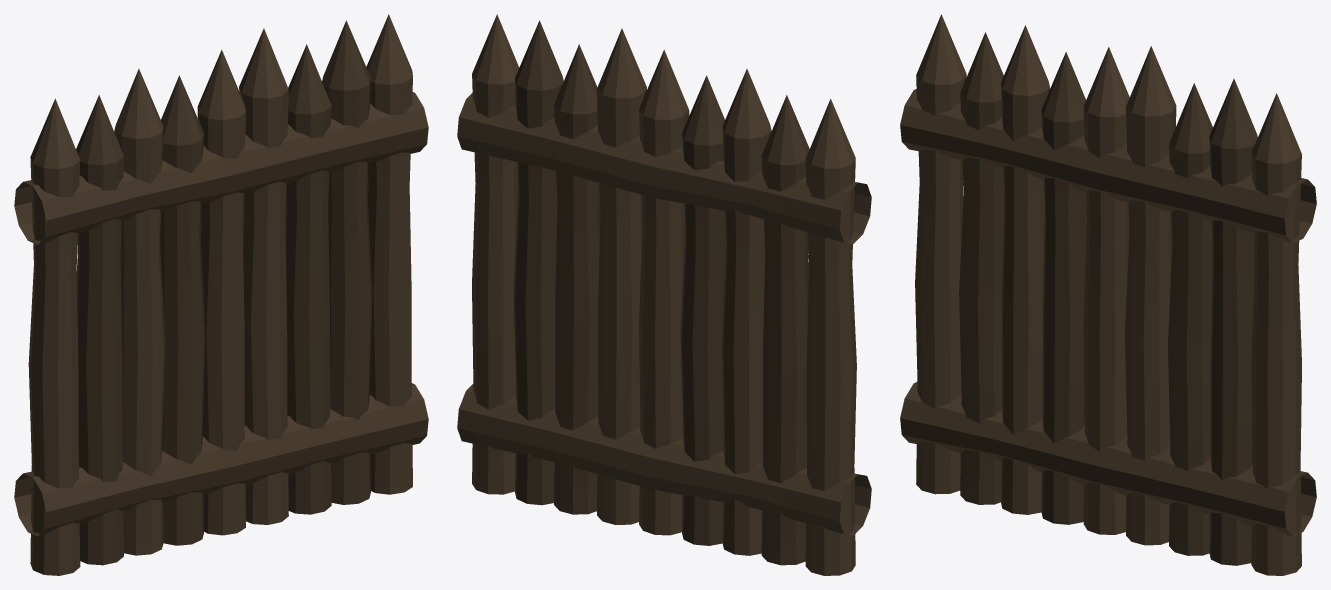
Rendered from Wall_V3.fbx.
3 views of the same model, side by side, from view 1: azimuth 30°, elevation 25°; view 2: azimuth 150°, elevation 25°; view 3: azimuth 330°, elevation 25° (orthographic).
Visible parts, largest first — view 1: pCylinder19, pCylinder25, pCylinder26, pCylinder17, pCylinder15, pCylinder18, pCylinder16, pCylinder20, pCylinder24, pCylinder21, pCylinder14; view 2: pCylinder19, pCylinder25, pCylinder26, pCylinder18, pCylinder17, pCylinder15, pCylinder16, pCylinder21, pCylinder20, pCylinder24, pCylinder14; view 3: pCylinder21, pCylinder25, pCylinder26, pCylinder17, pCylinder19, pCylinder15, pCylinder16, pCylinder24, pCylinder14, pCylinder18, pCylinder20.
Part boxes in pixels (x1,y1,x2,y2): pCylinder19: (28, 98, 80, 575); pCylinder25: (14, 92, 428, 244); pCylinder26: (14, 383, 428, 536); pCylinder17: (239, 28, 288, 524); pCylinder15: (114, 69, 165, 555); pCylinder18: (76, 95, 123, 565); pCylinder16: (197, 49, 245, 535); pCylinder20: (285, 44, 331, 514); pCylinder24: (322, 20, 372, 504); pCylinder21: (366, 14, 412, 494); pCylinder14: (160, 75, 205, 545); pCylinder19: (805, 99, 856, 575); pCylinder25: (457, 93, 871, 244); pCylinder26: (457, 384, 871, 535); pCylinder18: (761, 95, 809, 565); pCylinder17: (597, 28, 646, 524); pCylinder15: (722, 69, 771, 555); pCylinder16: (639, 49, 689, 535); pCylinder21: (472, 14, 519, 494); pCylinder20: (554, 44, 600, 514); pCylinder24: (513, 20, 563, 505); pCylinder14: (680, 75, 725, 545); pCylinder21: (1251, 93, 1301, 575); pCylinder25: (900, 89, 1316, 242); pCylinder26: (900, 382, 1316, 536); pCylinder17: (1124, 46, 1176, 545); pCylinder19: (915, 14, 966, 494); pCylinder15: (1000, 25, 1050, 514); pCylinder16: (1083, 47, 1129, 534); pCylinder24: (1209, 78, 1257, 565); pCylinder14: (1041, 52, 1086, 524); pCylinder18: (959, 32, 1004, 504); pCylinder20: (1168, 83, 1212, 555).
Size of the model in its own units: 36.5 by 44.4 by 5.49.
